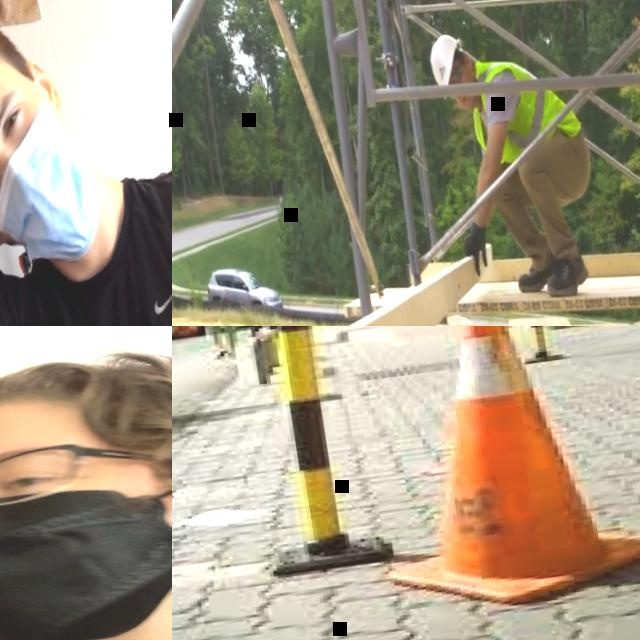Hardhat: (427, 31, 469, 100)
Mask: (0, 456, 172, 640), (0, 99, 104, 269)
NO-Hardhat: (0, 326, 172, 483)
NO-Mask: (456, 74, 477, 109)
NO-Safety Vest: (2, 180, 172, 326)
Person: (0, 0, 172, 326), (426, 15, 610, 312), (0, 326, 172, 640), (189, 326, 245, 362)
Safety Cone: (359, 326, 640, 622)
Safety Vest: (462, 46, 586, 166)
vehicle: (202, 261, 283, 319)
